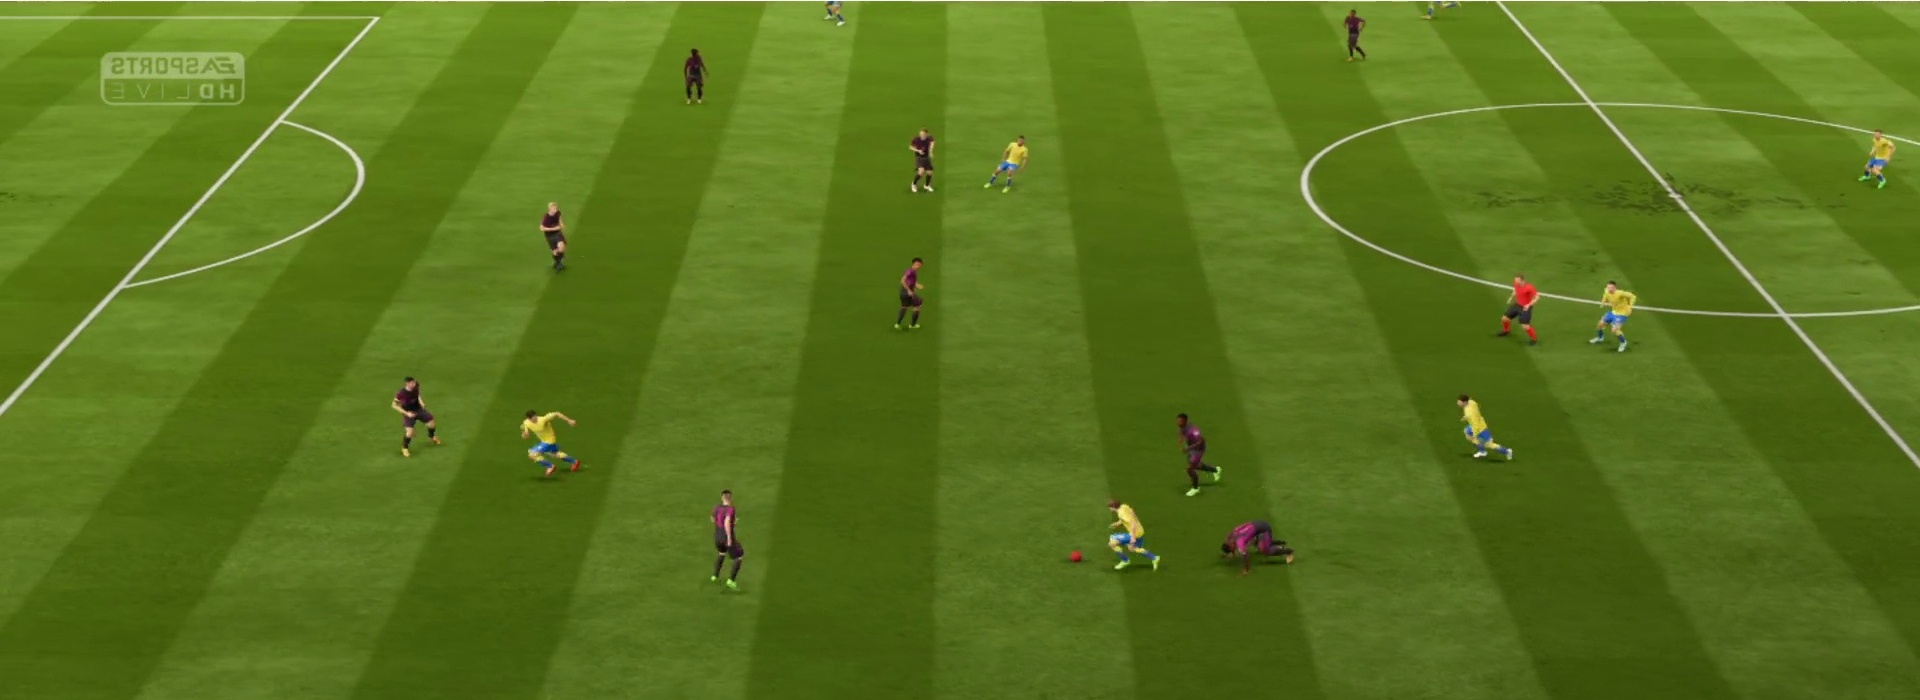person: (520, 400, 583, 477), (1105, 494, 1165, 571), (709, 487, 752, 592), (1220, 516, 1294, 577), (1175, 408, 1223, 498), (1455, 391, 1515, 462), (391, 372, 441, 457), (1499, 271, 1544, 347), (1590, 280, 1636, 352), (984, 132, 1035, 194), (892, 255, 930, 331), (1857, 127, 1899, 191), (540, 201, 574, 274), (908, 126, 937, 194), (683, 45, 711, 105), (1342, 7, 1368, 62), (1068, 548, 1083, 566)
